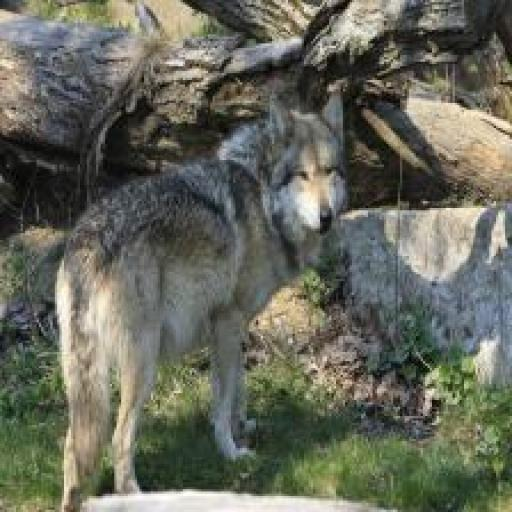wolf: (52, 84, 345, 512)
